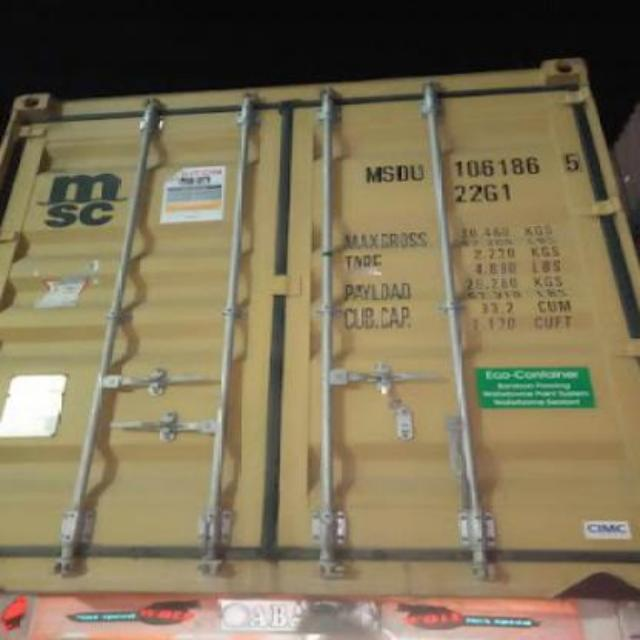0: (466, 153, 479, 180)
1: (450, 156, 466, 178), (498, 152, 510, 178)
5: (564, 149, 584, 175)
6: (524, 150, 544, 178), (482, 154, 498, 180)
8: (512, 150, 526, 178)
D: (396, 160, 409, 188)
M: (364, 162, 380, 186)
S: (382, 159, 396, 185)
U: (411, 158, 424, 188)
